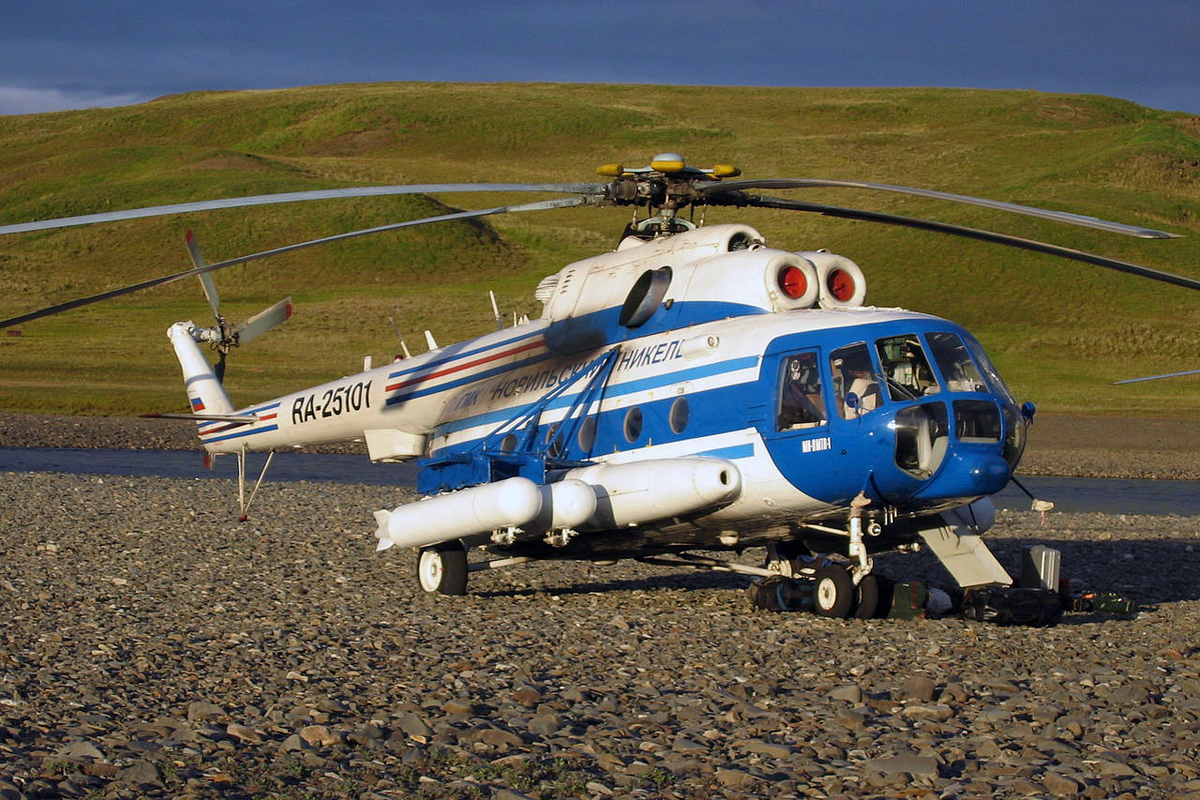number: (286, 378, 379, 427)
